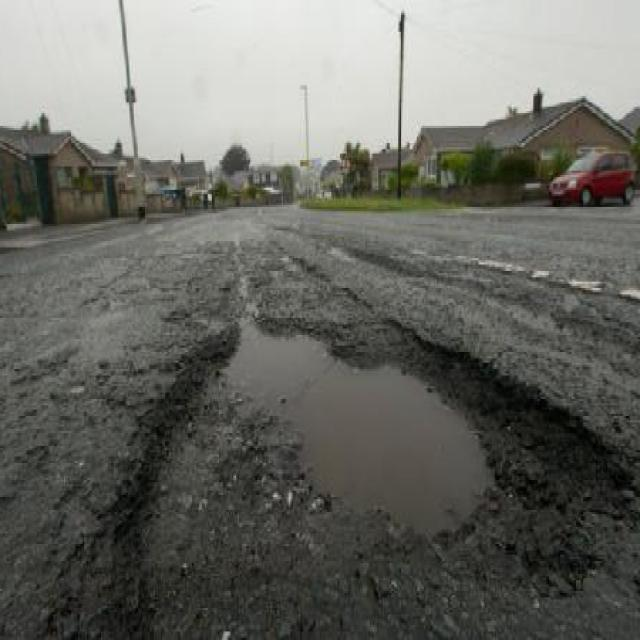pothole: (108, 303, 640, 638)
